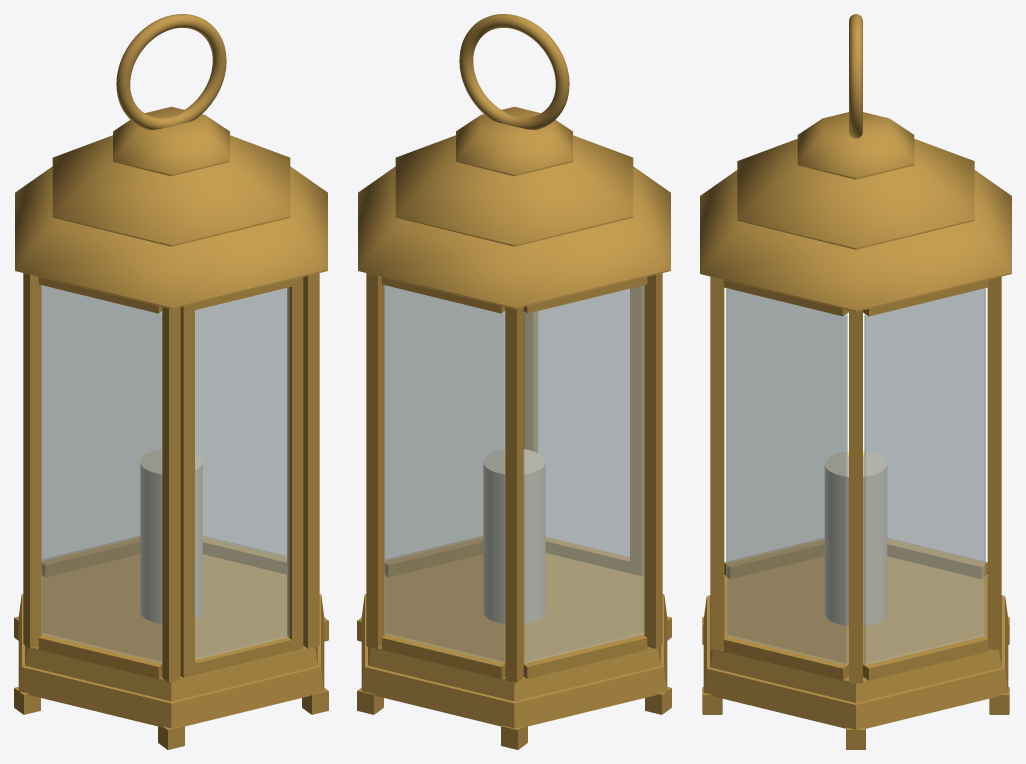
File: lantern.glb
3 renders of one model, left to right at view 1: azimuth 30°, elevation 25°; view 2: azimuth 150°, elevation 25°; view 3: azimuth 270°, elevation 25°, orthographic.
Parts seen in each view (by area): view 1: Glass, Roof, Door_Glass, Base, Frame, Door, Candle, Handle; view 2: Glass, Roof, Base, Frame, Door_Glass, Door, Candle, Handle; view 3: Glass, Roof, Base, Frame, Candle, Handle.
Boxes of the visible parts, x1,y1,x2,y2 form: Glass: (41,285,286,663); Roof: (15,106,327,309); Door_Glass: (195,287,289,659); Base: (14,554,328,749); Frame: (23,273,319,682); Door: (180,277,303,677); Candle: (140,449,202,623); Handle: (116,14,226,129); Glass: (384,285,644,663); Roof: (358,106,670,309); Base: (357,553,671,749); Frame: (366,273,662,682); Door_Glass: (535,289,629,557); Door: (523,285,644,575); Candle: (483,449,545,623); Handle: (459,14,569,129); Glass: (726,288,985,664); Roof: (700,112,1011,311); Base: (702,556,1009,749); Frame: (710,276,1001,683); Candle: (824,451,887,625); Handle: (849,14,862,138).
Size of the model in its own units: 0.2078 by 0.418 by 0.18.
